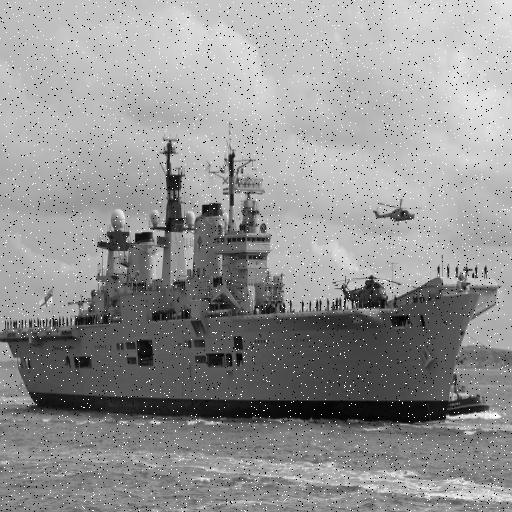Portanaves: (1, 120, 504, 426)
